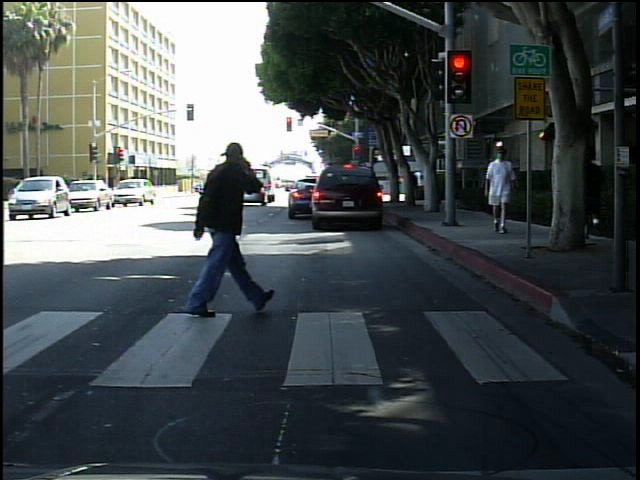person: (167, 121, 278, 335), (480, 145, 523, 240), (576, 137, 610, 246)
